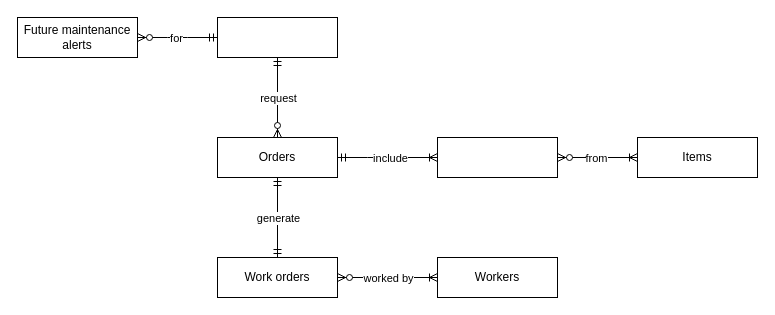
This 775x315 diagram has some shape labels left out. The centre of each missing label's shape, as x and y in pixels:
"Clients" belongs at point (277, 37).
"Order items (array)" belongs at point (497, 157).
